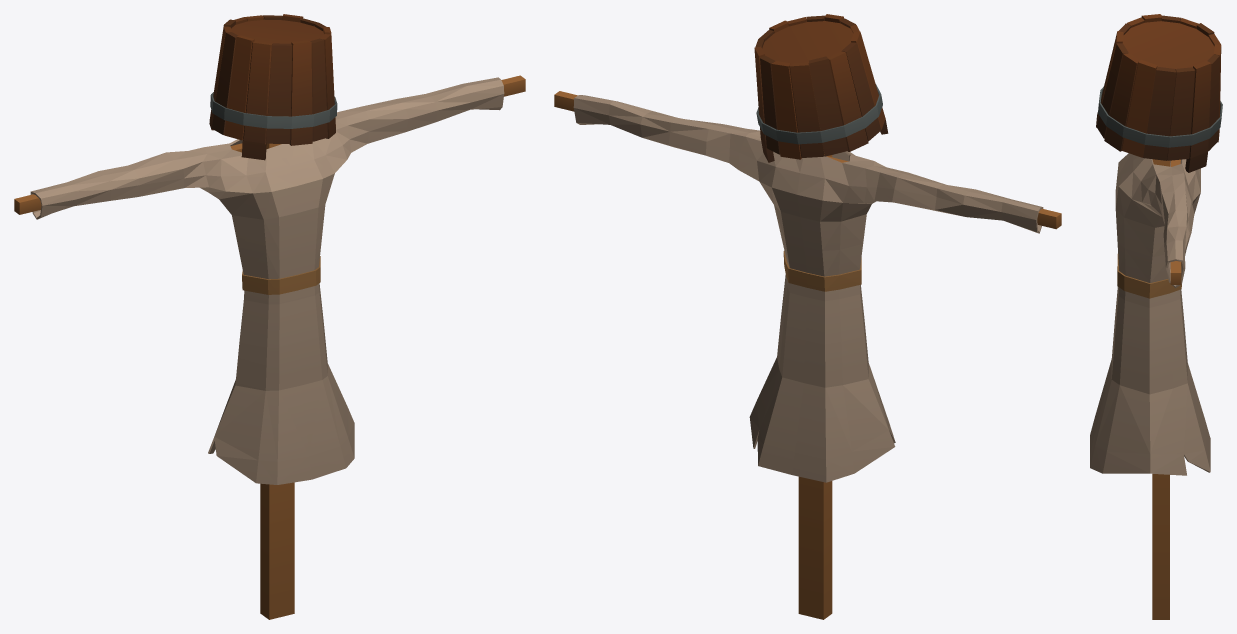
File: Prop_Scarecrow_04.obj
3 renders of one model, left to right at view 1: azimuth 30°, elevation 25°; view 2: azimuth 150°, elevation 25°; view 3: azimuth 270°, elevation 25°, orthographic.
Parts seen in each view (by area): view 1: Prop_Scarecrow_04; view 2: Prop_Scarecrow_04; view 3: Prop_Scarecrow_04.
Part boxes in pixels (x1,y1,x2,y2): Prop_Scarecrow_04: (14,14,525,619); Prop_Scarecrow_04: (554,14,1061,619); Prop_Scarecrow_04: (1090,14,1222,619).
Bounding box in the file's own units: 1.92 × 2.14 × 0.4431.
Materials: 1 (1 with a texture image).
